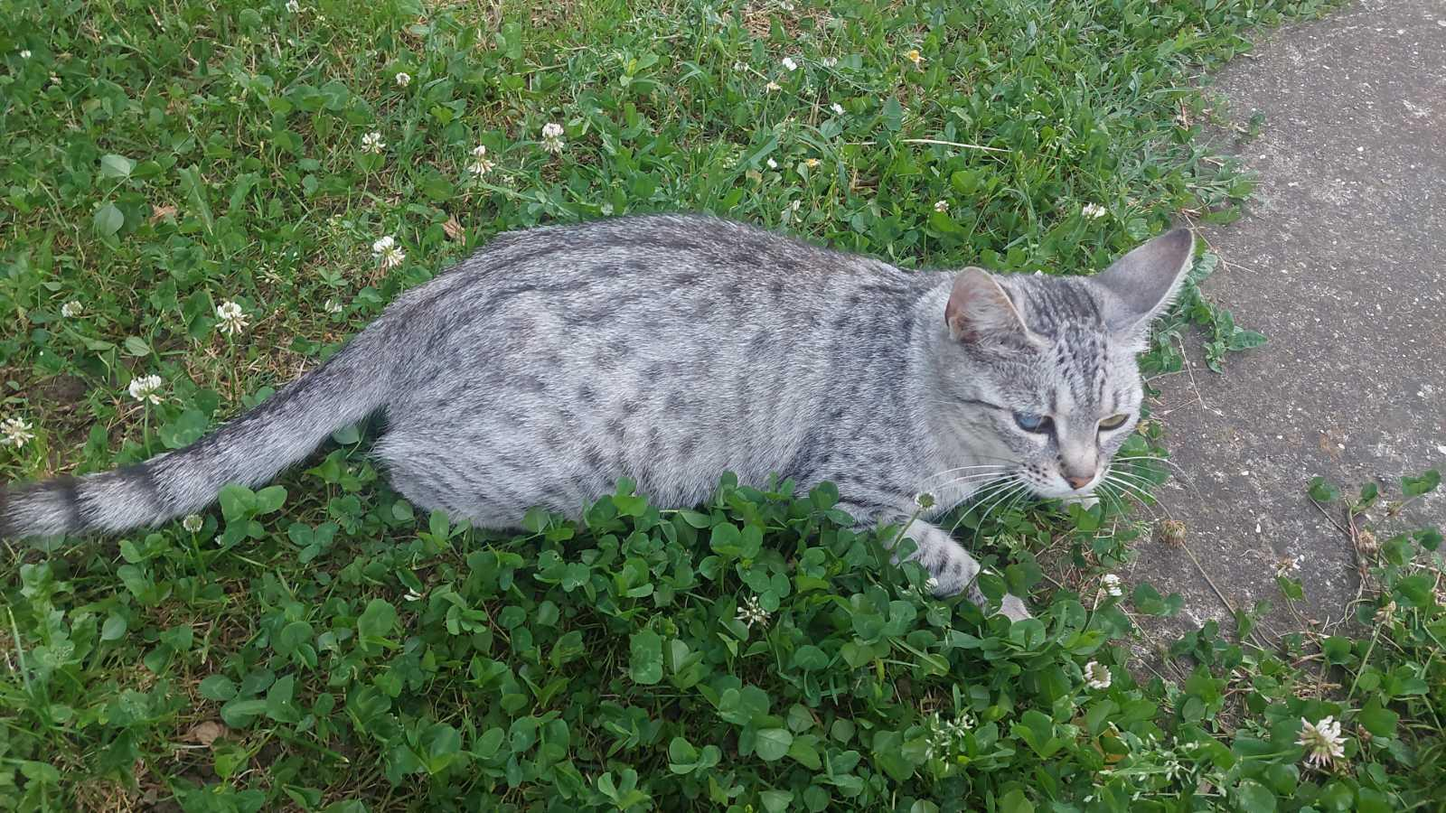macka: (2, 214, 1197, 649)
